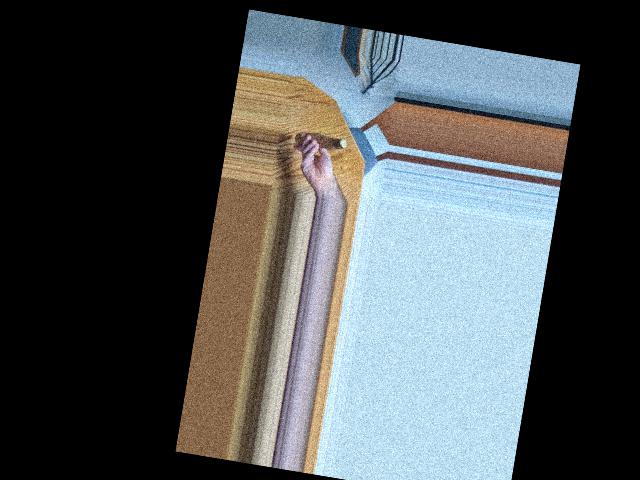sweet_potato: (297, 126, 345, 155)
